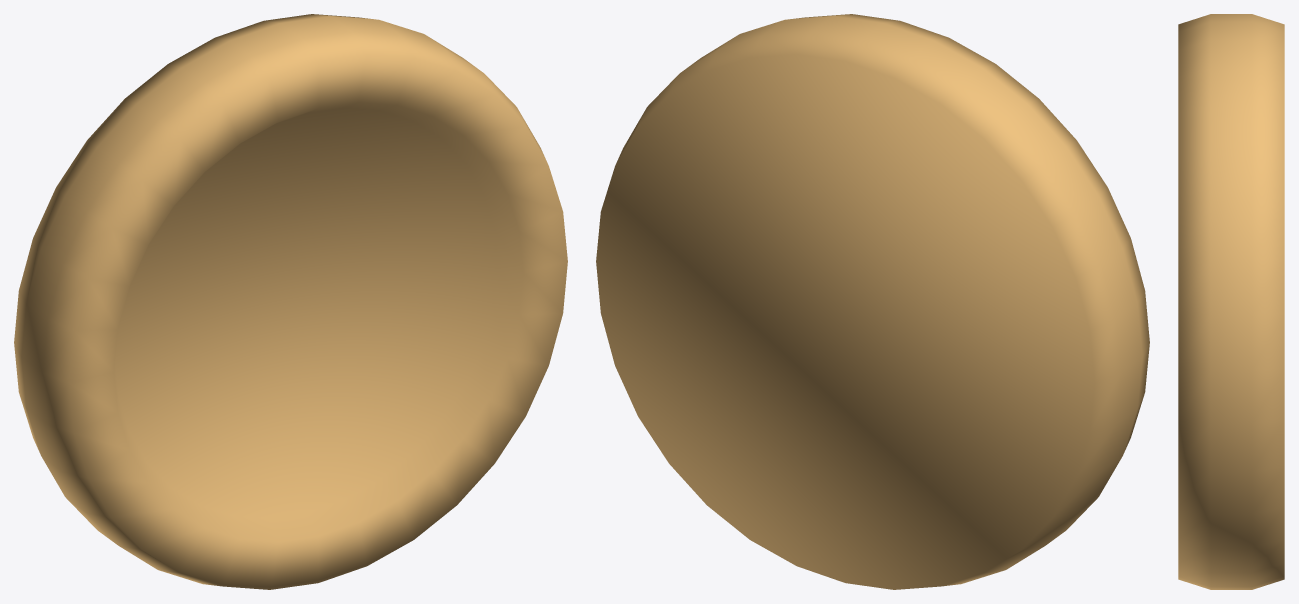
Rendered from coin.gltf.
3 renders of one model, left to right at view 1: azimuth 30°, elevation 25°; view 2: azimuth 150°, elevation 25°; view 3: azimuth 270°, elevation 25°, orthographic. The views are drawn at different scales.
Parts seen in each view (by area): view 1: Cylinder; view 2: Cylinder; view 3: Cylinder.
Boxes of the visible parts, box(x1,y1,x2,y2) form: Cylinder: box(14, 14, 567, 589); Cylinder: box(596, 14, 1149, 589); Cylinder: box(1178, 14, 1284, 589).
Size of the model in its own units: 2.25 by 2.25 by 0.4148.
